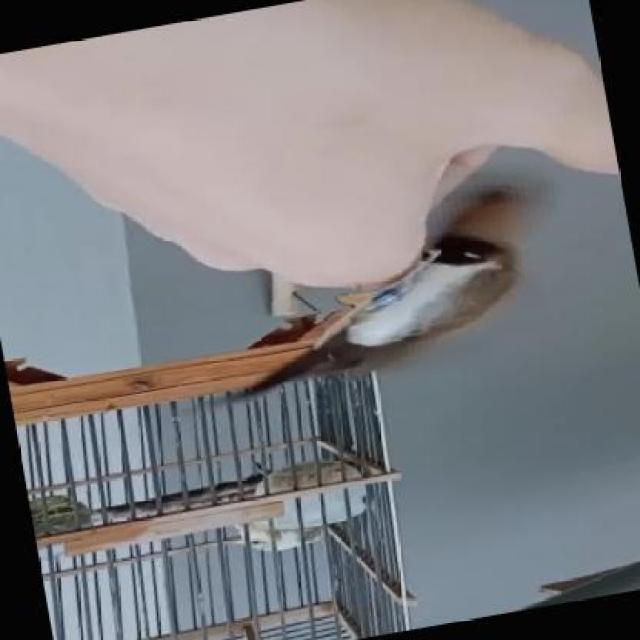Bird: (231, 174, 551, 414)
